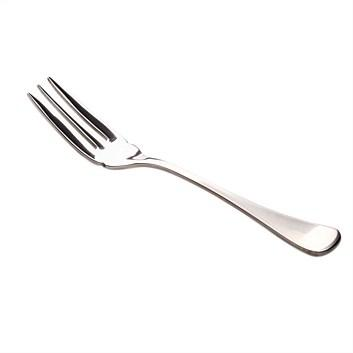Fork: (27, 76, 341, 257)
